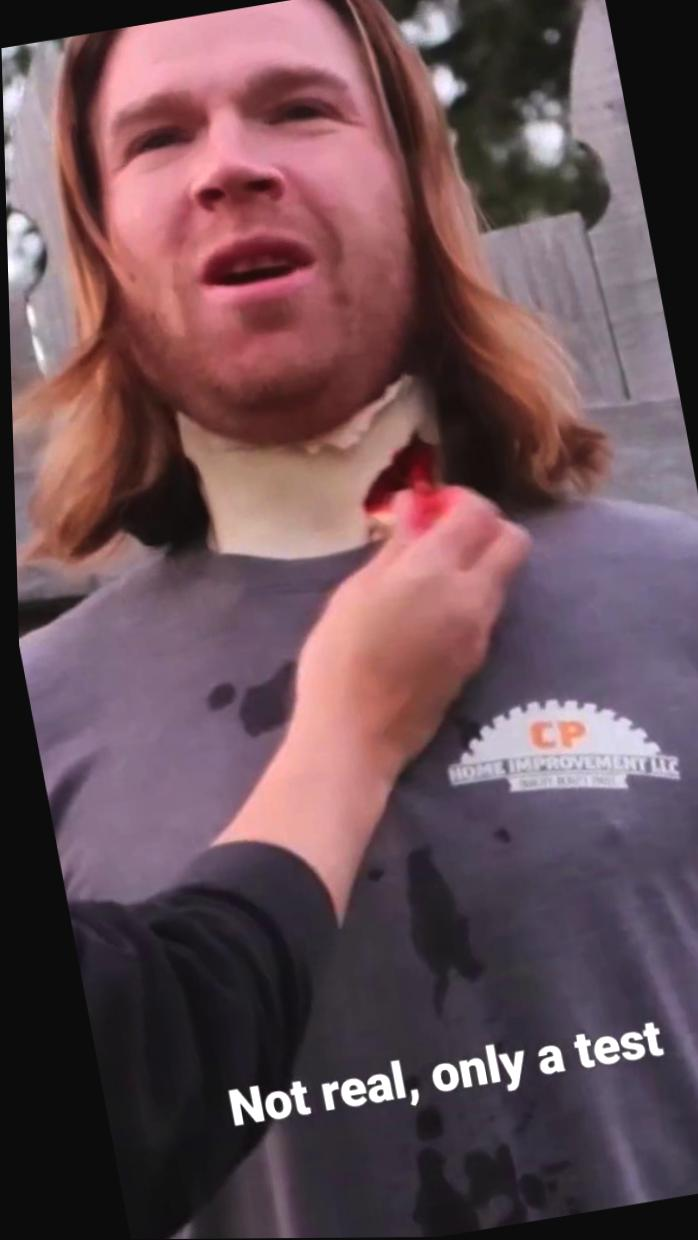Fire: (361, 434, 433, 540)
